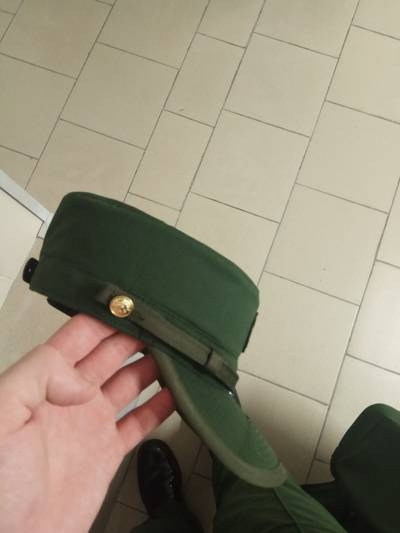Hat: (28, 159, 324, 504)
